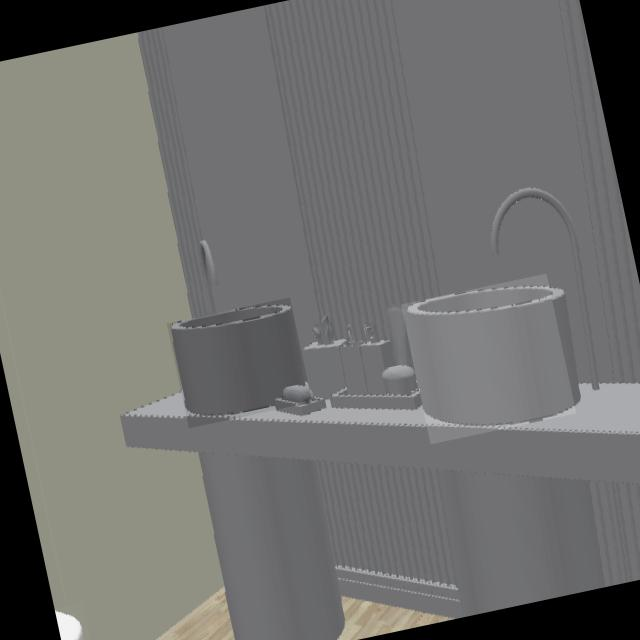toilet: (54, 608, 89, 640)
washbasin: (404, 286, 575, 426), (170, 304, 308, 419)
